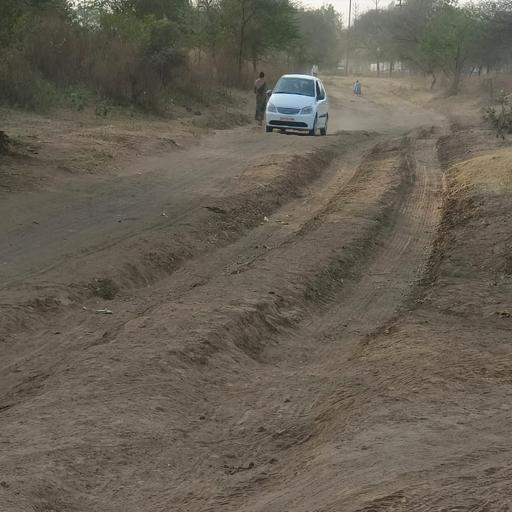vehicle_track: (35, 139, 445, 512), (0, 139, 383, 414), (0, 133, 307, 290)
